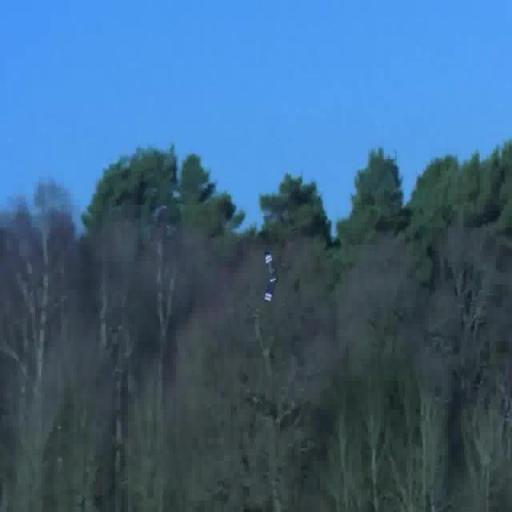uav: (262, 254, 281, 314)
